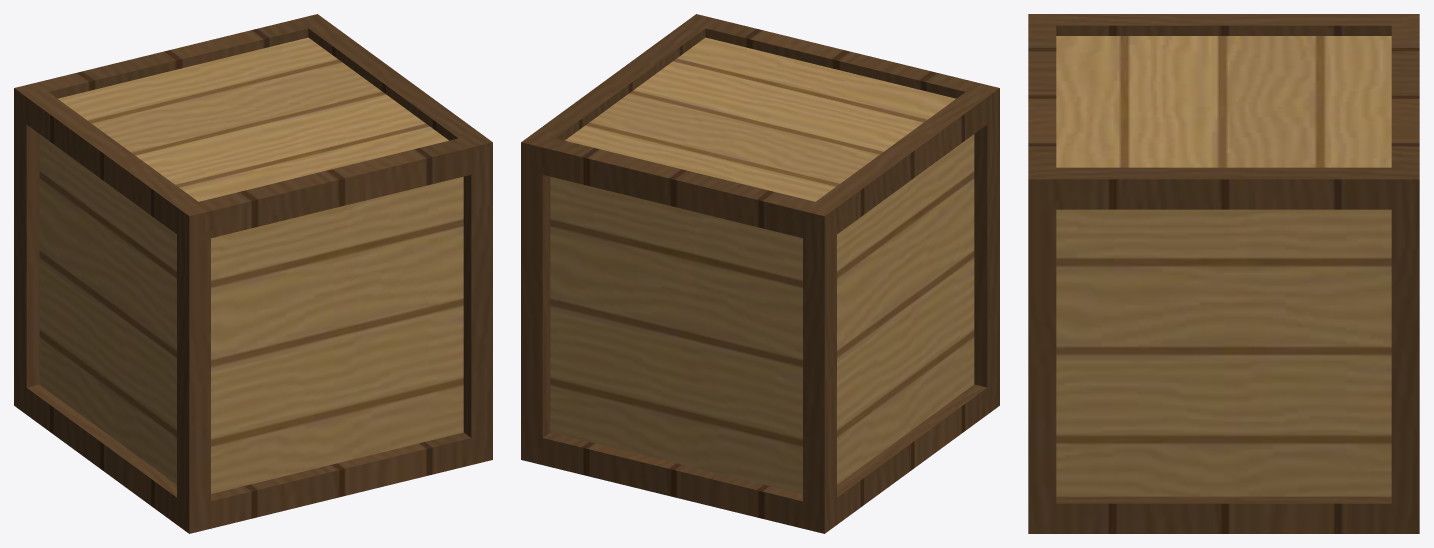
Rendered from crate.glb.
The picture shows the model from 3 angles, left to right: view 1: azimuth 30°, elevation 25°; view 2: azimuth 150°, elevation 25°; view 3: azimuth 270°, elevation 25°; orthographic projection. The views are drawn at different scales.
Parts seen in each view (by area): view 1: prop.crate; view 2: prop.crate; view 3: prop.crate.
Boxes of the visible parts, x1,y1,x2,y2 form: prop.crate: (14,14,492,533); prop.crate: (521,14,999,533); prop.crate: (1028,14,1419,533).
Bounding box in the file's own units: 0.7 × 0.7 × 0.7.
Materials: 2 (2 with a texture image).
